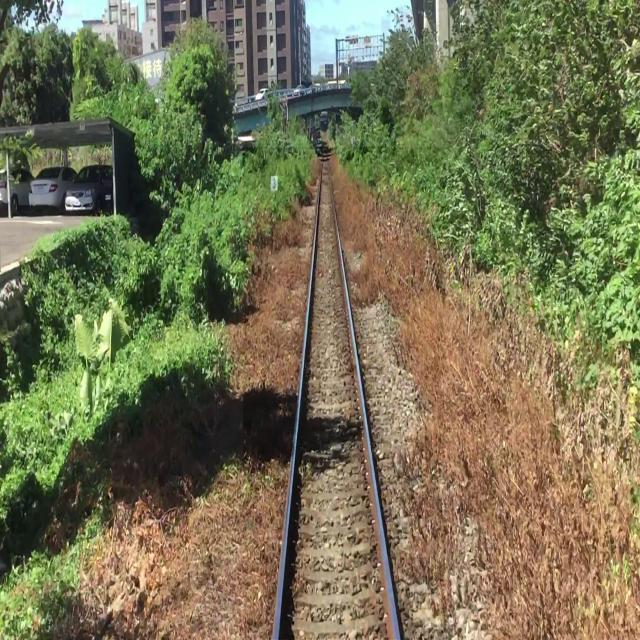rail: (244, 148, 446, 640)
